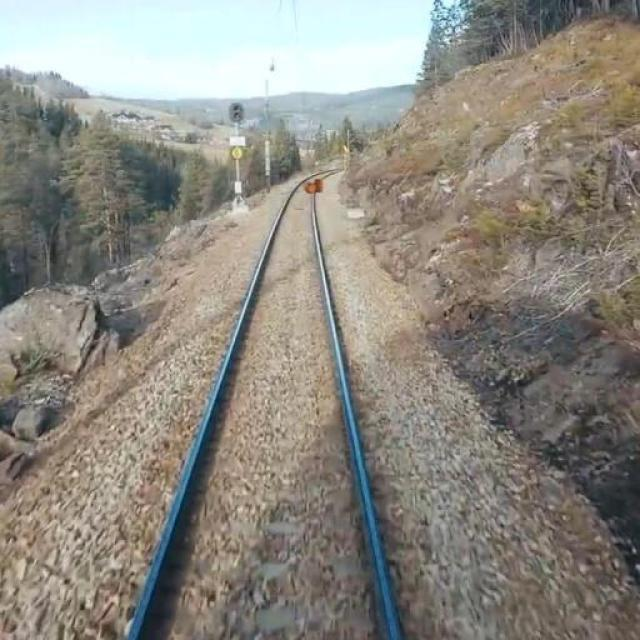Other_objects: (298, 177, 330, 200)
